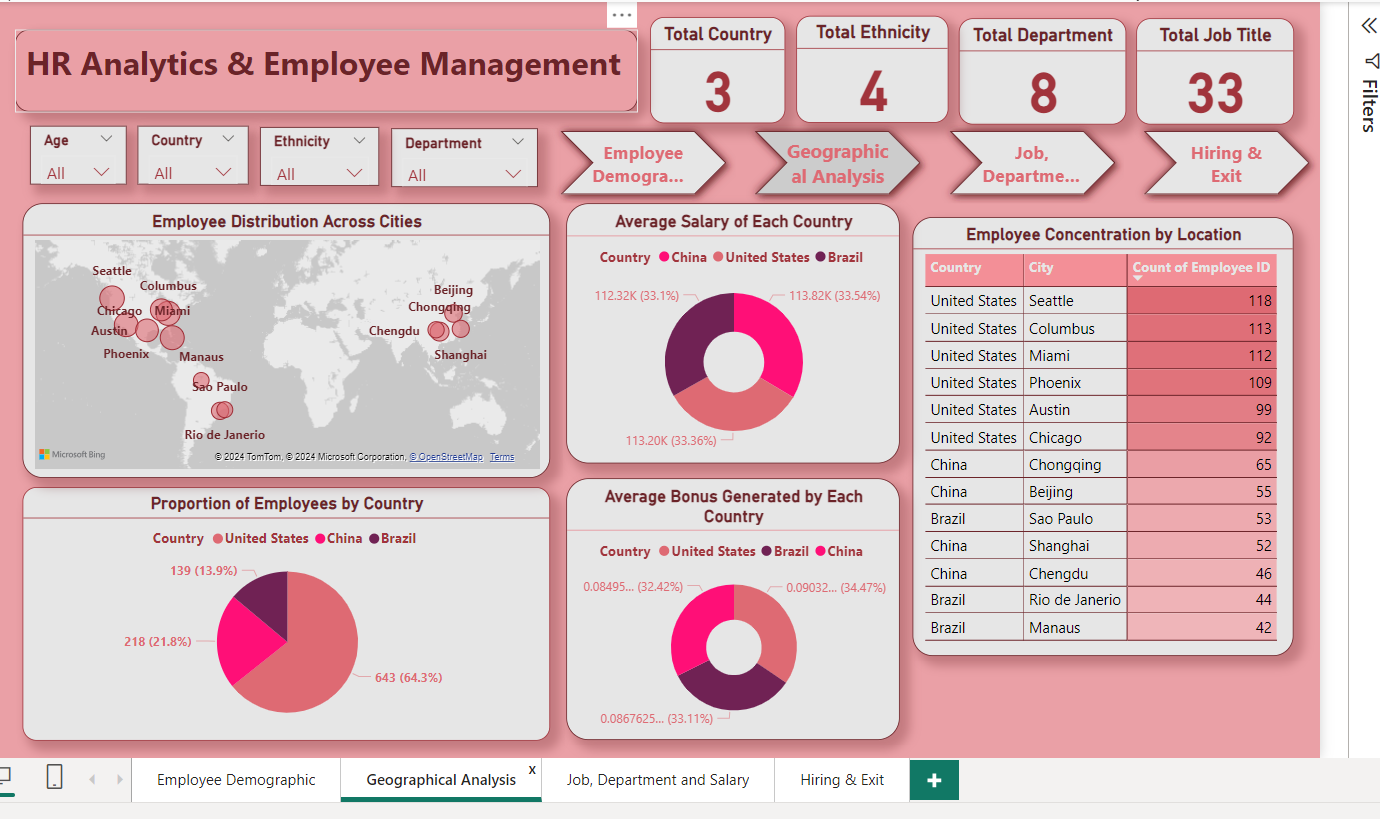

The dashboard page shown, as its layout file describes it:
{"tool":"powerbi","page":{"name":"Geographical Analysis","canvas":[1310,751],"ordinal":1},"visuals":[{"type":"card","title":"Total Country","fields":{"Values":["Count(TBL_Employees.Country)"]},"box":[645.5,14.9,134.1,105.5],"z":0},{"type":"card","title":"Total Department","fields":{"Values":["Count(TBL_Employees.Department)"]},"box":[952.1,16.1,166.3,105.5],"z":1000},{"type":"card","title":"Total Ethnicity","fields":{"Values":["Count(TBL_Employees.Ethnicity)"]},"box":[790.7,13.7,151.4,106.8],"z":2000},{"type":"card","title":"Total Job Title","fields":{"Values":["Count(TBL_Employees.Job Title)"]},"box":[1128.4,16.1,156.4,105.5],"z":3000},{"type":"pieChart","title":"Proportion of Employees by Country","fields":{"Y":["CountNonNull(TBL_Employees.Employee ID)"],"Category":["TBL_Employees.Country"]},"box":[22.3,481.6,523.8,252],"z":4000},{"type":"tableEx","title":"Employee Concentration by Location","fields":{"Values":["TBL_Employees.Country","TBL_Employees.City","CountNonNull(TBL_Employees.Employee ID)"]},"box":[906.2,213.5,378.6,435.7],"z":5000},{"type":"map","title":"Employee Distribution Across Cities","fields":{"Category":["TBL_Employees.City"],"Y":["Avg(TBL_Employees.Latitude)"],"X":["Avg(TBL_Employees.Longitude)"],"Size":["CountNonNull(TBL_Employees.Employee ID)"]},"box":[22.3,199.9,523.8,273.1],"z":6000},{"type":"textbox","box":[14.9,27.3,618.2,81.9],"z":7000},{"type":"donutChart","title":"Average Salary of Each Country","fields":{"Category":["TBL_Employees.Country"],"Y":["Avg(TBL_Employees.Annual Salary)"]},"box":[562.9,200,331.4,258.6],"z":8000},{"type":"donutChart","title":"Average Bonus Generated by Each Country","fields":{"Category":["TBL_Employees.Country"],"Y":["Avg(TBL_Employees.Bonus %)"]},"box":[562.9,472.9,331.4,260],"z":9000},{"type":"slicer","fields":{"Values":["TBL_Employees.Age"]},"box":[30,122.9,95.7,58.6],"z":10000},{"type":"slicer","fields":{"Values":["TBL_Employees.Country"]},"box":[137.1,122.9,110,58.6],"z":11000},{"type":"slicer","fields":{"Values":["TBL_Employees.Department"]},"box":[388.6,125.7,145.7,58.6],"z":12000},{"type":"slicer","fields":{"Values":["TBL_Employees.Ethnicity"]},"box":[258.6,124.3,118.6,58.6],"z":13000},{"type":"pageNavigator","box":[547.1,118.6,762.9,81.4],"z":14000}]}

Visuals, with their boxes in screenshot pixels (x1, y1, x2, y2):
"Total Country" card: region(647, 19, 781, 124)
"Total Department" card: region(954, 20, 1121, 125)
"Total Ethnicity" card: region(792, 17, 944, 124)
"Total Job Title" card: region(1131, 20, 1287, 125)
"Proportion of Employees by Country" pieChart: region(22, 486, 547, 739)
"Employee Concentration by Location" tableEx: region(908, 218, 1287, 654)
"Employee Distribution Across Cities" map: region(22, 204, 547, 478)
textbox: region(15, 31, 634, 113)
"Average Salary of Each Country" donutChart: region(564, 204, 896, 463)
"Average Bonus Generated by Each Country" donutChart: region(564, 477, 896, 738)
slicer - TBL_Employees.Age: region(30, 127, 126, 185)
slicer - TBL_Employees.Country: region(137, 127, 248, 185)
slicer - TBL_Employees.Department: region(389, 130, 535, 188)
slicer - TBL_Employees.Ethnicity: region(259, 128, 378, 187)
pageNavigator: region(548, 122, 1313, 204)
